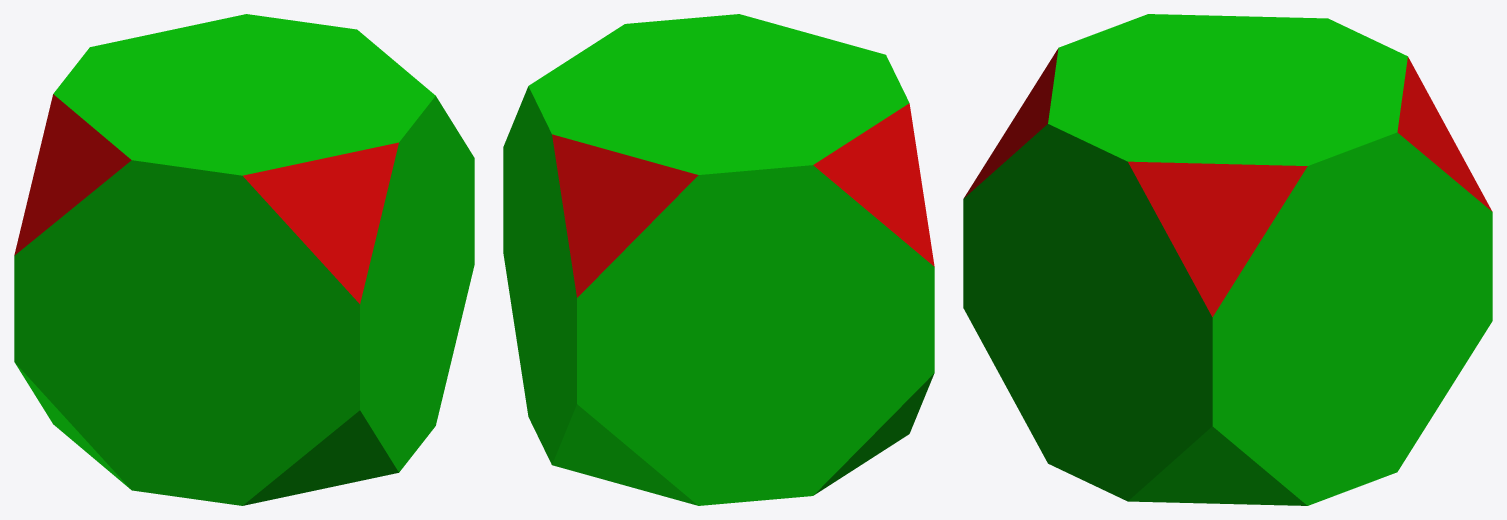
The model's file is anim_cube_000059.obj.
The picture shows the model from 3 angles, left to right: view 1: azimuth 30°, elevation 25°; view 2: azimuth 150°, elevation 25°; view 3: azimuth 270°, elevation 25°; orthographic projection. The views are drawn at different scales.
Parts seen in each view (by area): view 1: Cube_Cube.002_Material.002, Cube_Cube.002_Material.001; view 2: Cube_Cube.002_Material.002, Cube_Cube.002_Material.001; view 3: Cube_Cube.002_Material.002, Cube_Cube.002_Material.001.
Part boxes in pixels (box(x1,y1,x2,y2)): Cube_Cube.002_Material.002: box(14, 14, 474, 505); Cube_Cube.002_Material.001: box(14, 94, 398, 303); Cube_Cube.002_Material.002: box(503, 14, 934, 505); Cube_Cube.002_Material.001: box(552, 103, 934, 297); Cube_Cube.002_Material.002: box(963, 14, 1492, 505); Cube_Cube.002_Material.001: box(963, 48, 1492, 316).
Size of the model in its own units: 4.37 by 3.09 by 4.37.
